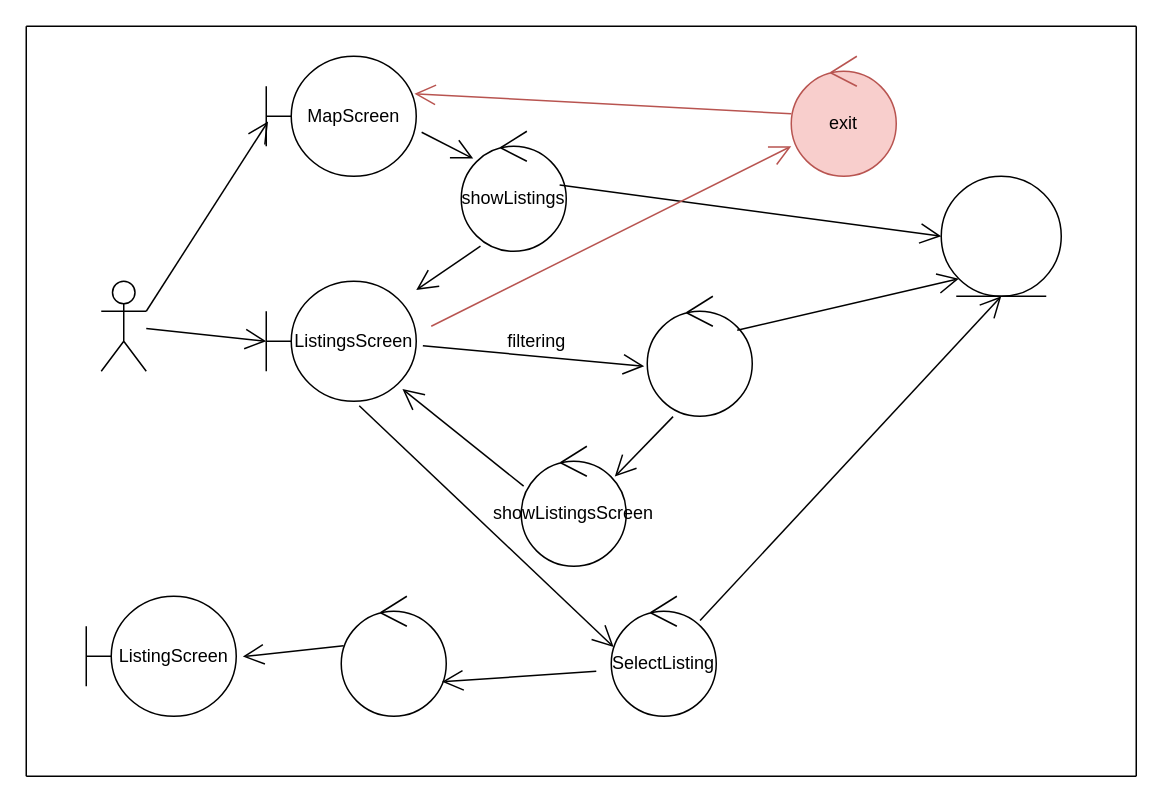
This 1164x804 diagram has some shape labels left out. The shapes that lost their labels are listed below. From the top down, each one's centre as x and y in pixels, then its label:
(1000,235): Database
(123,325): StandardUser
(699,355): useOfFilters
(393,655): showListingScreen
